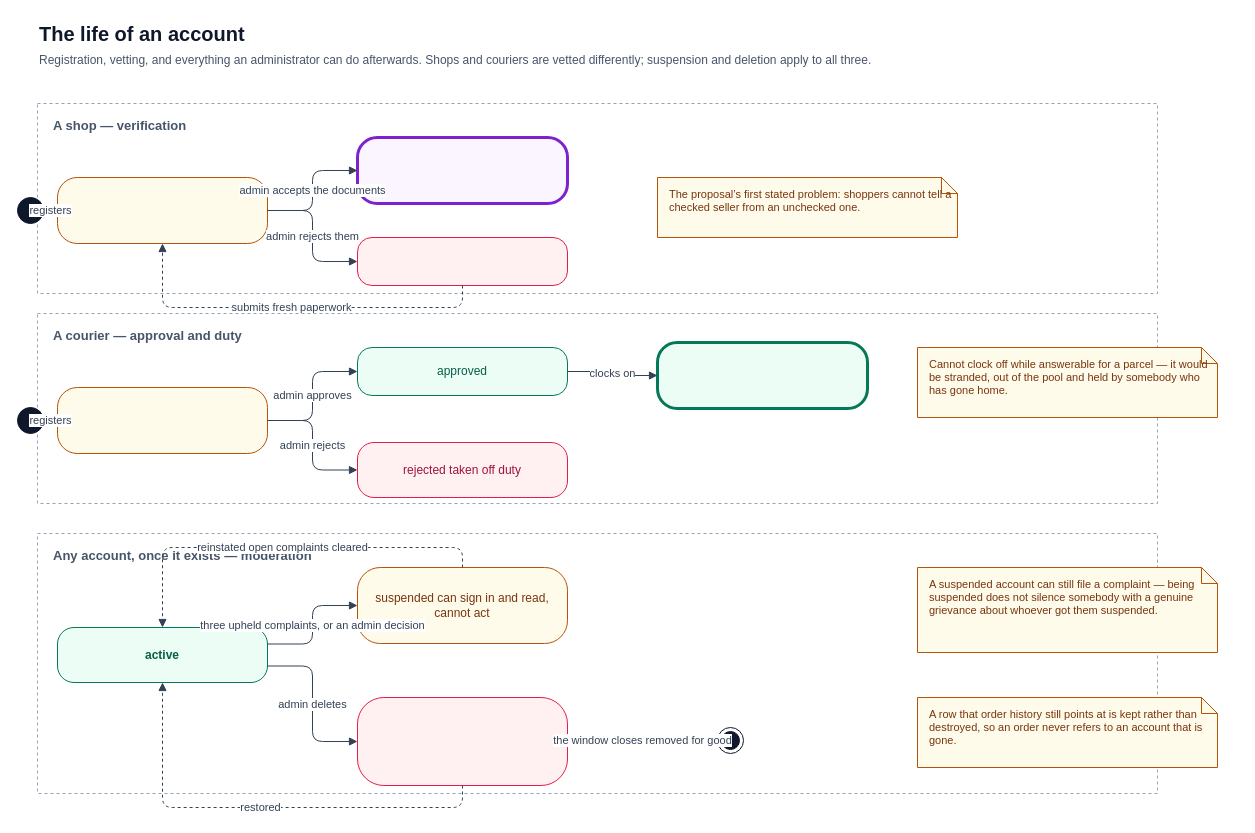
The diagram is 1255 pixels wide and 833 high, and some of its shapes have lost their labels. Here are the shapes that lost their labels. From the top down, the centre of each, then its label:
At point 462,170: "verified carries the badge shoppers see".
At point 162,210: "pending can sell, shows as unverified".
At point 462,261: "rejected".
At point 762,375: "on duty sees the parcel pool".
At point 162,420: "pending cannot take any work".
At point 462,741: "deleted 30-day restore window: cannot sign in, products hidden".
